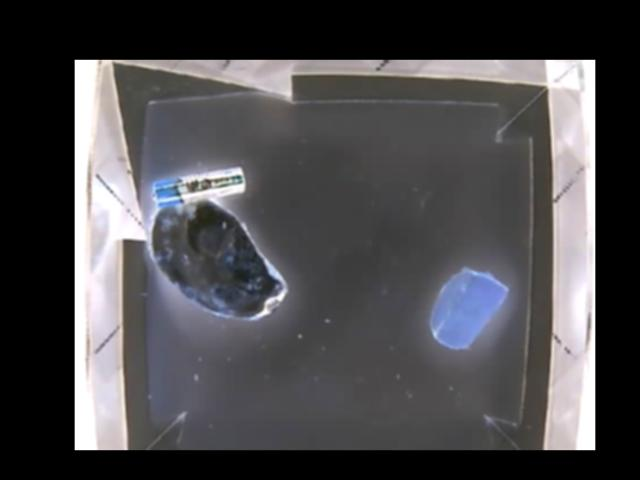Battery: (151, 164, 246, 206)
Potato: (426, 268, 508, 350)
Shell: (146, 198, 286, 321)
